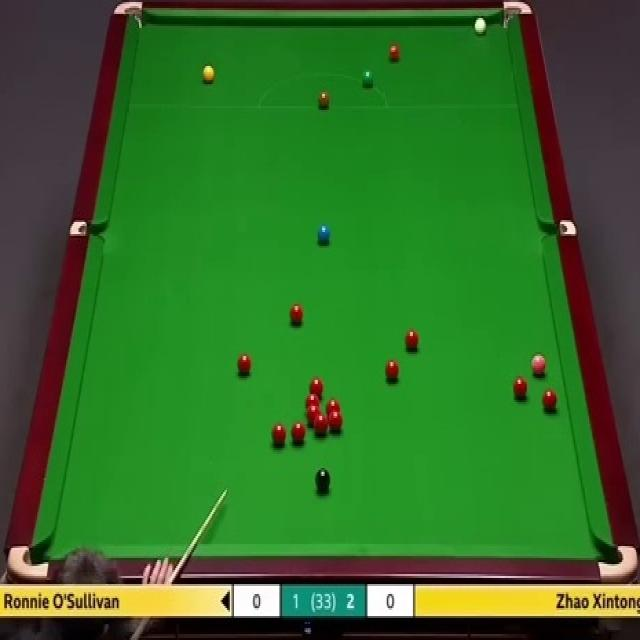black-ball: (315, 467, 331, 493)
blue-ball: (317, 224, 330, 242)
brown-ball: (317, 92, 330, 109)
green-ball: (364, 73, 376, 93)
pink-ball: (530, 354, 548, 378)
red-ball: (511, 374, 530, 400), (288, 305, 307, 328), (542, 387, 558, 410), (314, 414, 328, 439), (236, 354, 252, 375), (328, 411, 344, 432), (291, 421, 306, 443), (272, 423, 287, 445), (384, 361, 398, 382), (326, 398, 340, 416), (406, 330, 418, 350), (306, 408, 319, 426), (387, 43, 400, 61), (311, 377, 322, 398), (306, 397, 319, 413)
white-ball: (473, 16, 488, 35)
yellow-ball: (202, 64, 214, 85)
